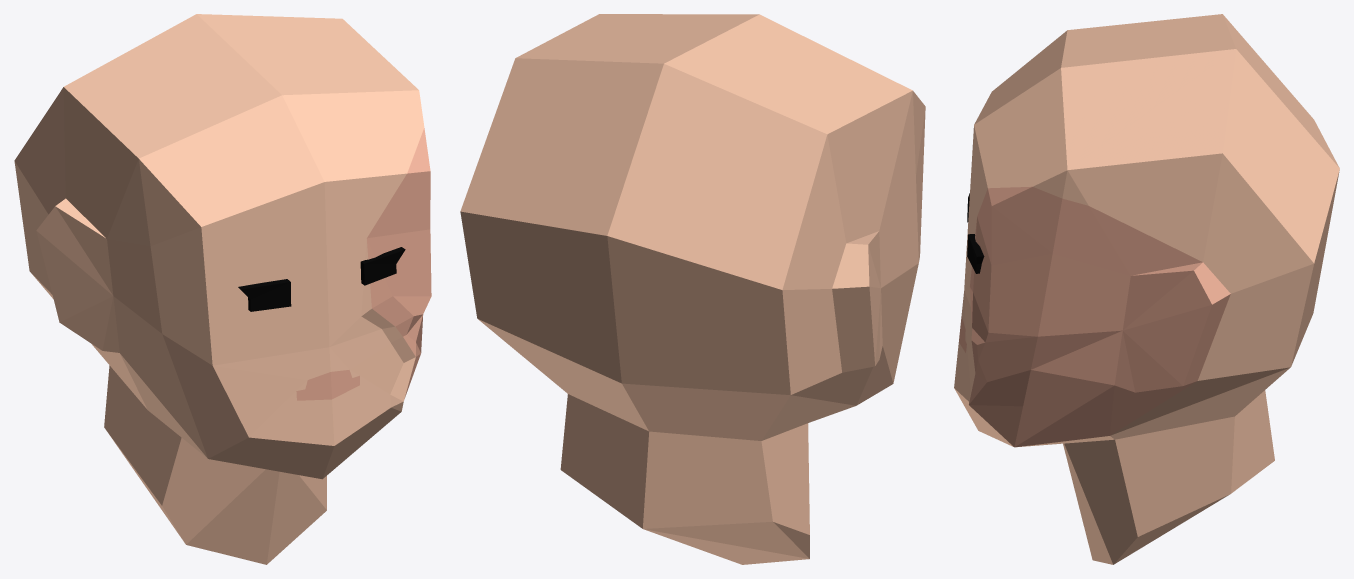
The model's file is Chr_Head_Female_08_Static.fbx.
3 views of the same model, side by side, from view 1: azimuth 30°, elevation 25°; view 2: azimuth 150°, elevation 25°; view 3: azimuth 270°, elevation 25° (orthographic). The views are drawn at different scales.
Parts seen in each view (by area): view 1: Chr_Head_Female_08_Static; view 2: Chr_Head_Female_08_Static; view 3: Chr_Head_Female_08_Static.
Boxes of the visible parts, x1,y1,x2,y2 form: Chr_Head_Female_08_Static: (14,14,431,564); Chr_Head_Female_08_Static: (460,14,925,564); Chr_Head_Female_08_Static: (954,14,1339,564).
Size of the model in its own units: 0.2661 by 0.3693 by 0.2526.
